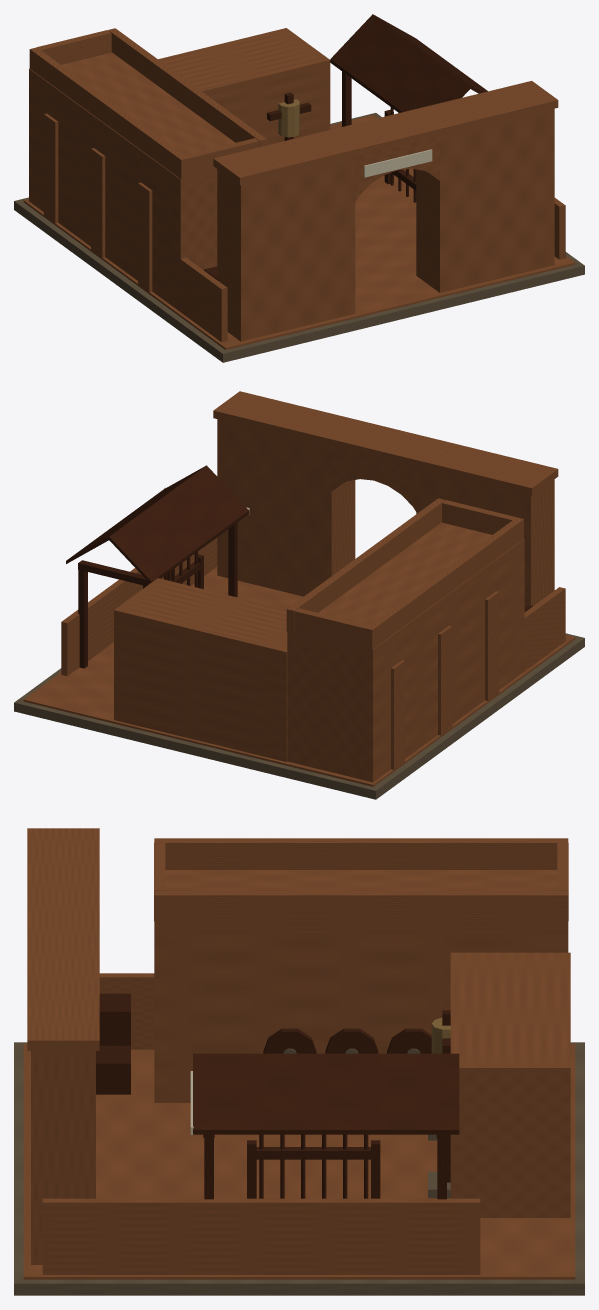
File: Berber_Barracks_Age2.fbx
3 renders of one model, top to bottom at view 1: azimuth 30°, elevation 25°; view 2: azimuth 150°, elevation 25°; view 3: azimuth 270°, elevation 25°, orthographic. The views are drawn at different scales.
Parts seen in each view (by area): view 1: entry_west_pier, entry_east_pier, west_armoury, entry_cap, court_floor, foundation, pitched_training_shelter, west_roof, rear_roof, rear_store, west_parapet, west_parapet.001 (+11 smaller); view 2: west_armoury, entry_east_pier, rear_store, entry_cap, pitched_training_shelter, foundation, west_roof, rear_roof, court_floor, entry_west_pier, west_parapet, west_parapet.001 (+11 smaller); view 3: west_armoury, court_side_wall.001, court_floor, pitched_training_shelter, entry_cap, rear_store, west_parapet.001, rear_roof, foundation, west_parapet, entry_east_pier, west_roof (+11 smaller).
Boxes of the visible parts, x1,y1,x2,y2 form: entry_west_pier: (217,157,355,341); entry_east_pier: (416,108,554,292); west_armoury: (29,75,217,311); entry_cap: (213,81,558,185); court_floor: (23,115,575,349); foundation: (14,113,584,362); pitched_training_shelter: (330,14,487,112); west_roof: (29,52,235,185); rear_roof: (158,28,330,95); rear_store: (208,66,330,145); west_parapet: (29,47,187,182); west_parapet.001: (108,28,266,146); west_armoury: (287,545,524,782); entry_east_pier: (217,419,355,596); rear_store: (114,616,287,761); entry_cap: (213,391,558,495); pitched_training_shelter: (66,465,249,583); foundation: (14,633,584,799); west_roof: (287,522,524,655); rear_roof: (114,578,287,658); court_floor: (23,567,575,786); entry_west_pier: (416,467,554,606); west_parapet: (365,517,523,652); west_parapet.001: (286,498,445,633); west_armoury: (154,930,568,1102); court_side_wall.001: (42,1198,480,1274); court_floor: (23,1043,575,1279); pitched_training_shelter: (193,1053,459,1134); entry_cap: (27,828,99,1050); rear_store: (450,1076,570,1217); west_parapet.001: (154,890,568,926); rear_roof: (450,952,570,1076); foundation: (14,1042,584,1295); west_parapet: (154,838,568,869); entry_east_pier: (31,1051,95,1264); west_roof: (154,870,568,930).
Size of the model in its own units: 600 by 279 by 600.
Materials: 5 (5 with a texture image).
